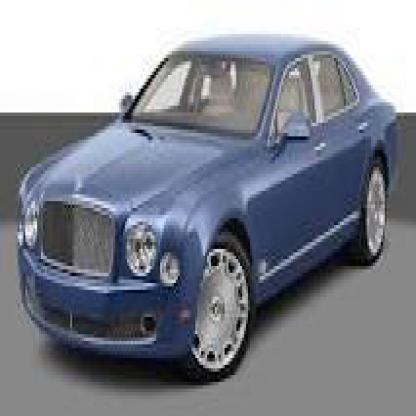Vehicle: (14, 34, 402, 392)
